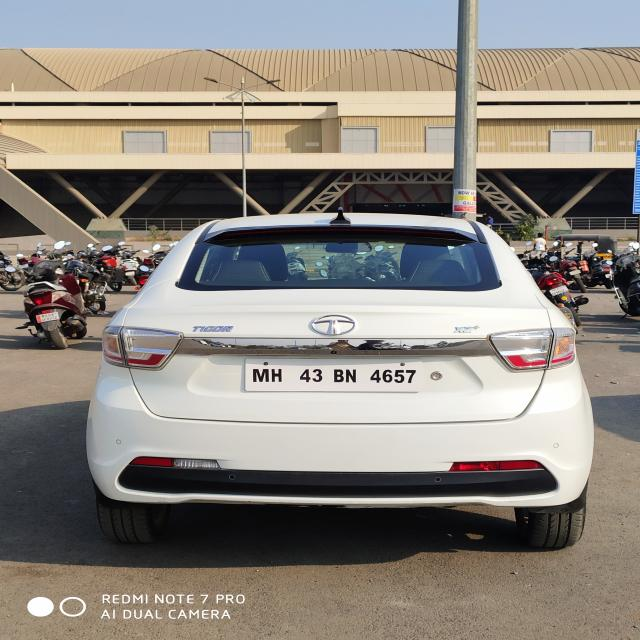Number-Plate: (243, 360, 450, 391)
